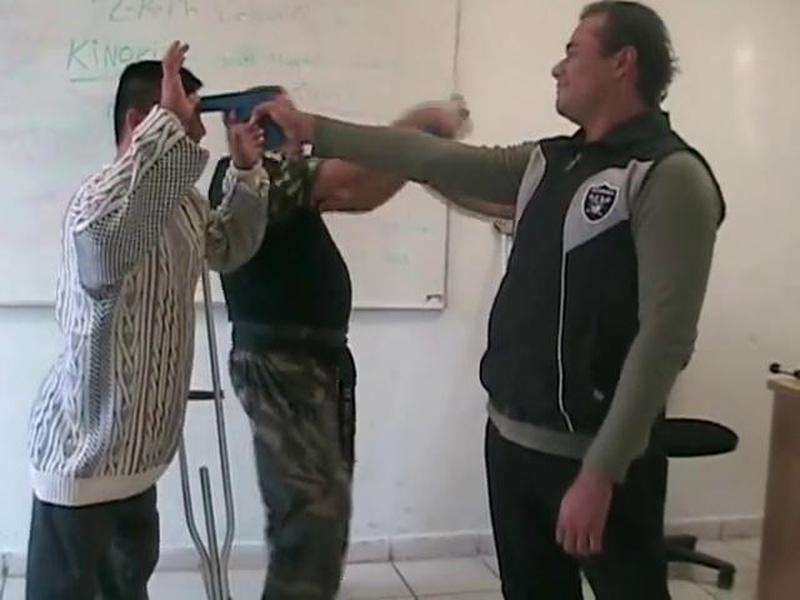Pistola: (179, 71, 297, 165)
